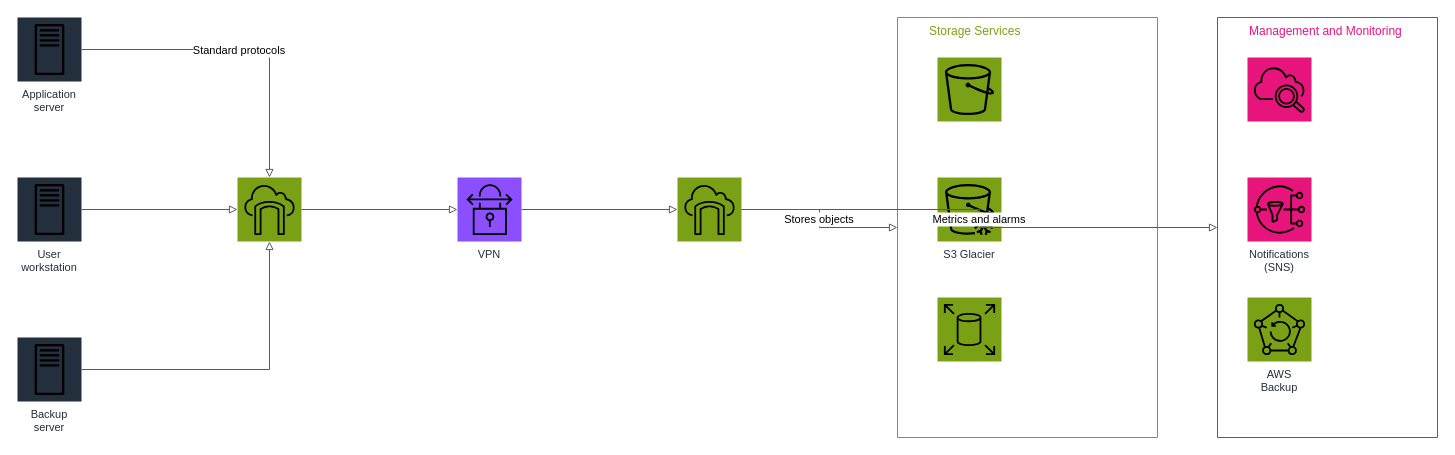
Some shapes in this 1455 by 455 pixel diagram are drawn without their labels. The shapes that lost their labels are listed below. From the top down, each one's centre as x and y in pixels, then its label:
At pixel 969 89: "S3 bucket".
At pixel 1279 89: "CloudWatch".
At pixel 269 209: "Local cache (Storage Gateway)".
At pixel 709 209: "Managed service (Storage Gateway)".
At pixel 969 329: "Elastic volumes (EBS)".
